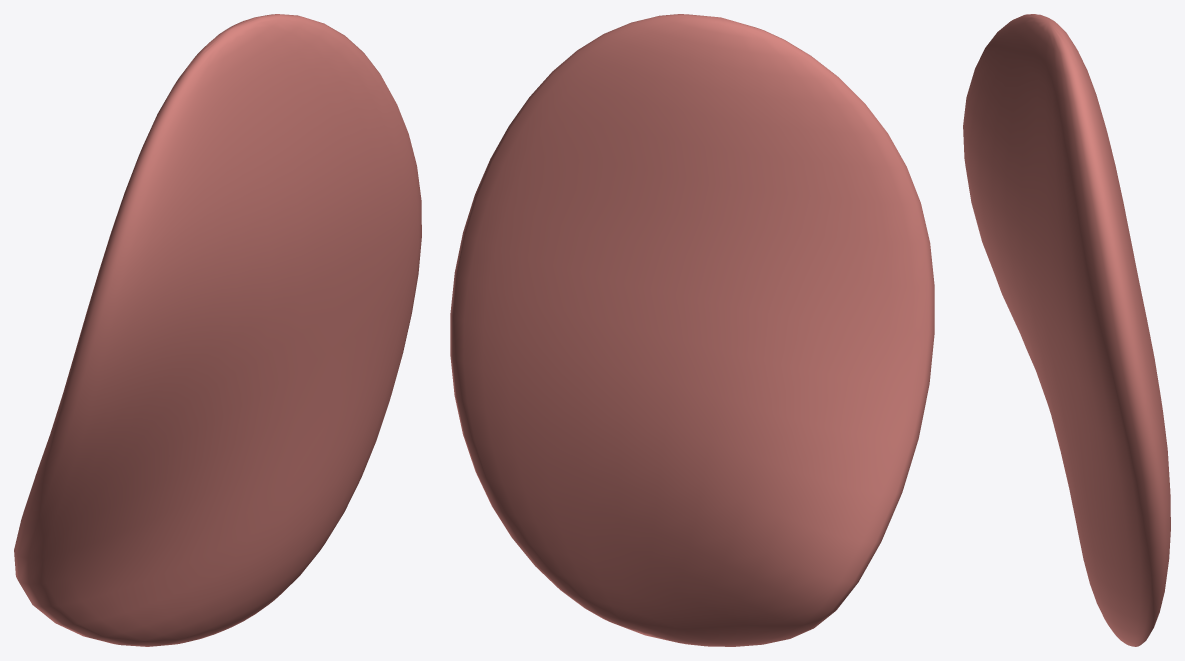
The picture shows the model from 3 angles, left to right: view 1: azimuth 30°, elevation 25°; view 2: azimuth 150°, elevation 25°; view 3: azimuth 270°, elevation 25°; orthographic projection. The views are drawn at different scales.
Parts seen in each view (by area): view 1: ZA_fa7765c9555e658c; view 2: ZA_fa7765c9555e658c; view 3: ZA_fa7765c9555e658c.
Part boxes in pixels (x1,y1,x2,y2): ZA_fa7765c9555e658c: (14, 14, 421, 646); ZA_fa7765c9555e658c: (450, 14, 934, 646); ZA_fa7765c9555e658c: (963, 14, 1170, 646).
Size of the model in its own units: 0.0227 by 0.0316 by 0.00992.
